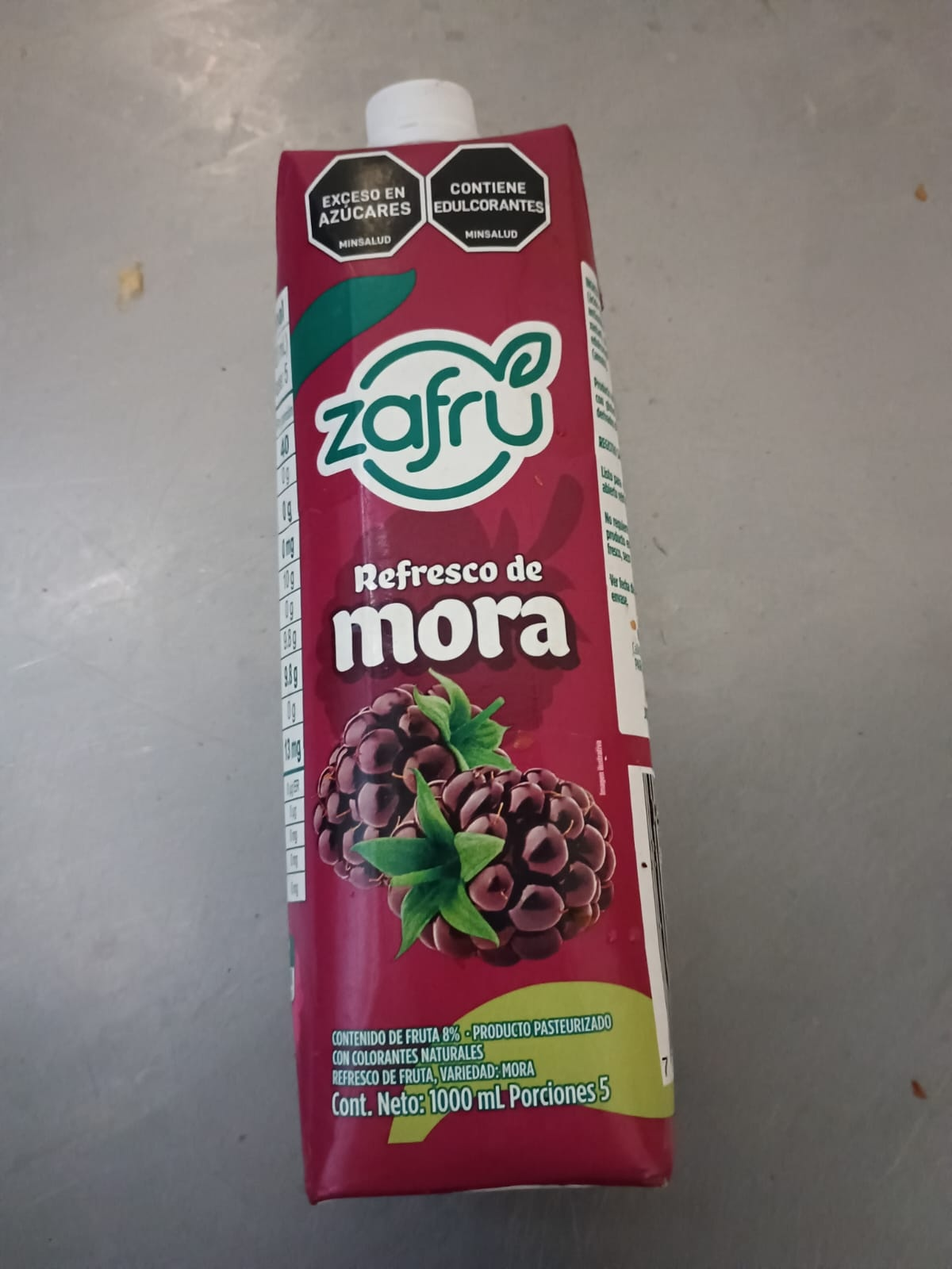Carton: (280, 143, 666, 1205)
Plastico: (361, 78, 476, 140)
